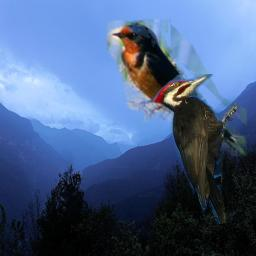Swallow: (107, 19, 247, 156)
Woodpecker: (149, 74, 237, 224)
